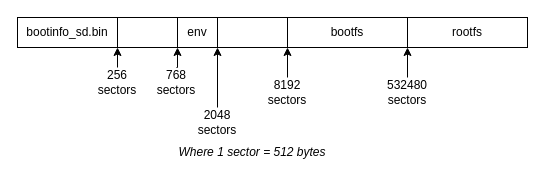
Image size: 545x185. Some labels were removed from this diagram. The centre of each missing label's shape, as x and y in pixels:
"FSBL" belongs at (x=147, y=32).
"opensbi" belongs at (x=252, y=32).
